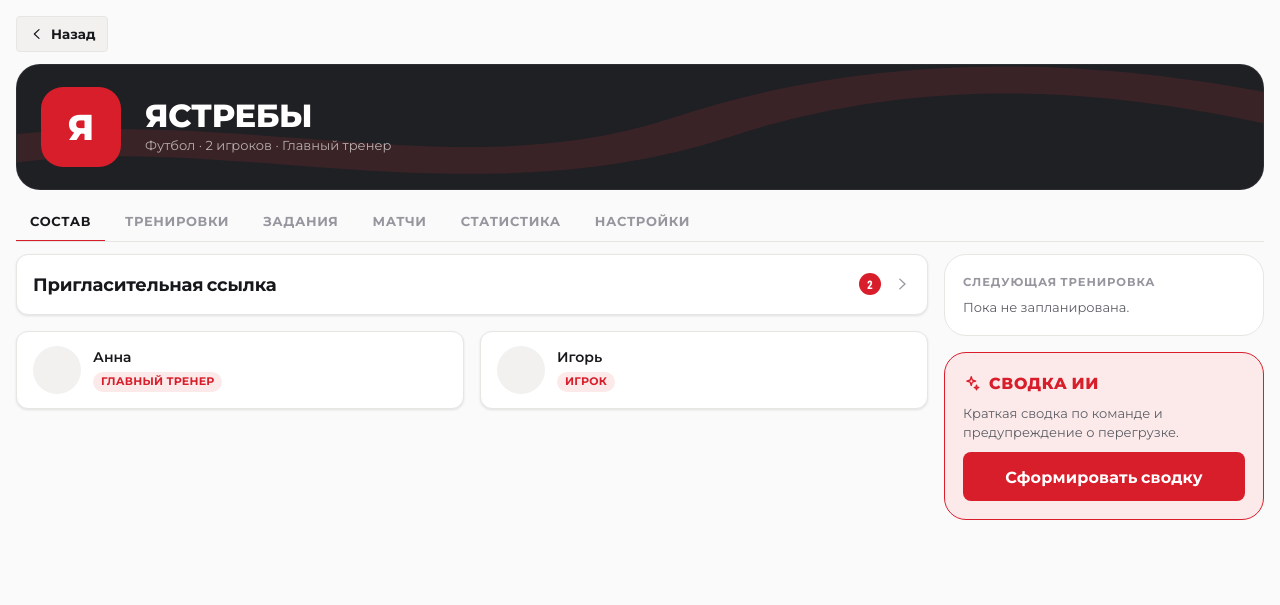
Test case: inviting players from the roster › join requests › lists the requests inside the opened panel and accepts one without collapsing it
Step 1. Click the button "Пригласительная ссылка 2" → coordinates (155, 284), box [33,271,911,298]
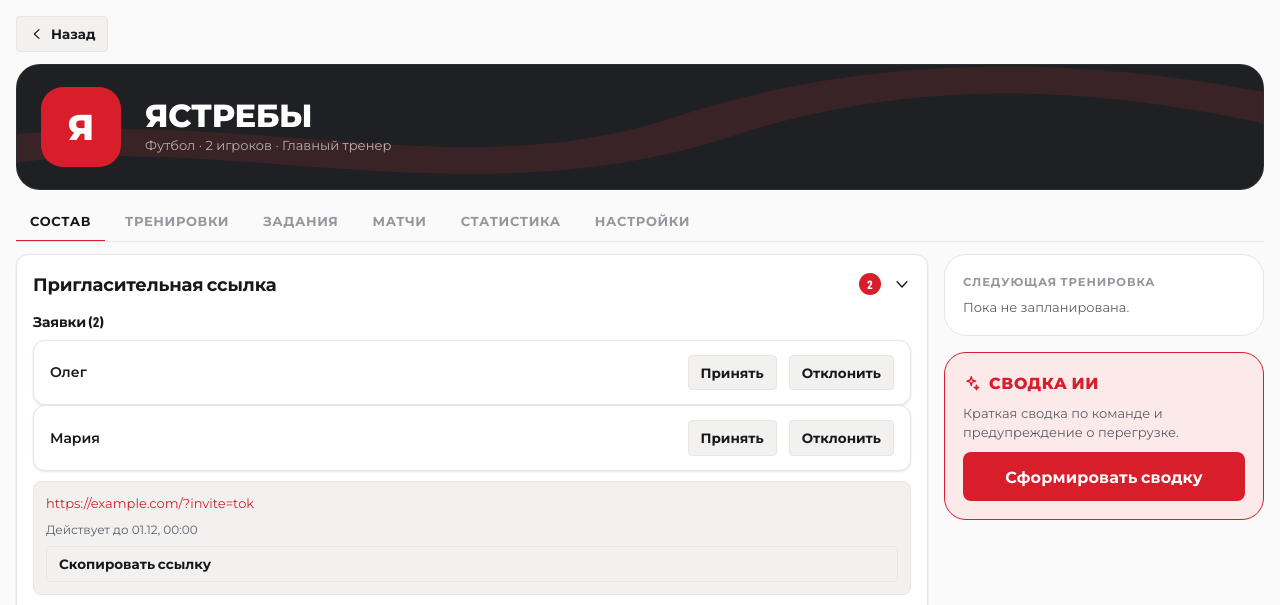
Check: the text "Олег" is shown, box [50,363,87,381]
Step 2. Click the button "Принять" in the row of "Олег" → coordinates (732, 373), box [688,355,777,390]
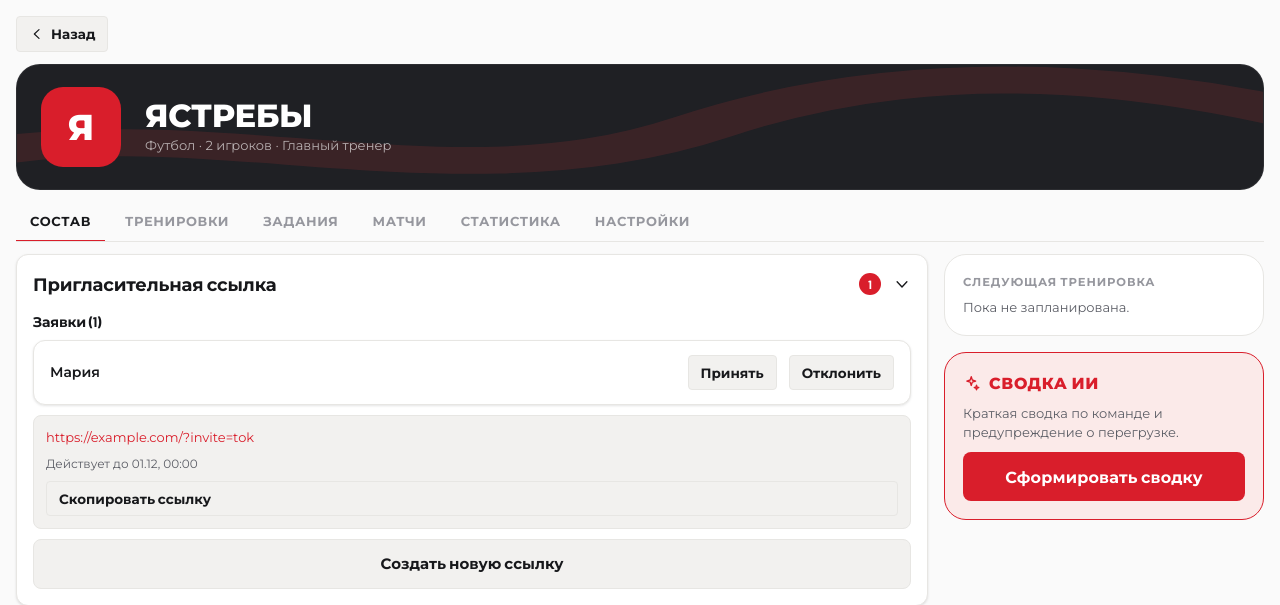
Check: the button "Пригласительная ссылка 1" is expanded, box [33,271,911,298]
Check: the text "Олег" is gone
Check: the text named "Новых заявок: 1" is shown, box [859,274,881,296]
